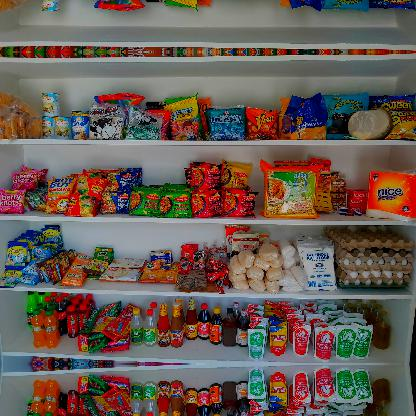Lady-s-Choice: (348, 107, 392, 139)
